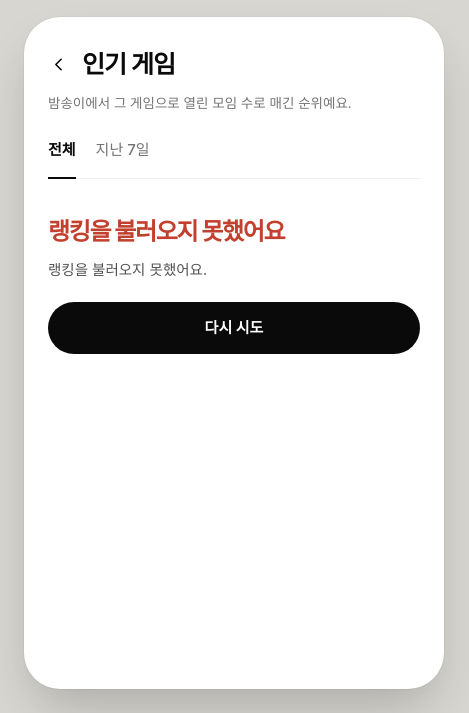
Test: 인기 게임 랭킹 화면 › 조회가 실패하면 오류를 알리고 다시 시도할 수 있다
Expected: the message shows "랭킹을 불러오지 못했어요.", [48,261,207,278]
Click the button "다시 시도" at x=234, y=328, box [48,302,420,354]
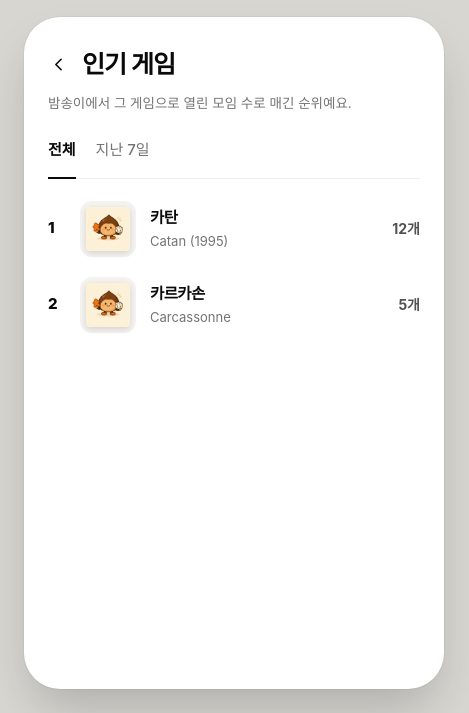
Expected: the message "랭킹을 불러오지 못했어요 랭킹을 불러오지 못했어요. 다시 시도" is gone
